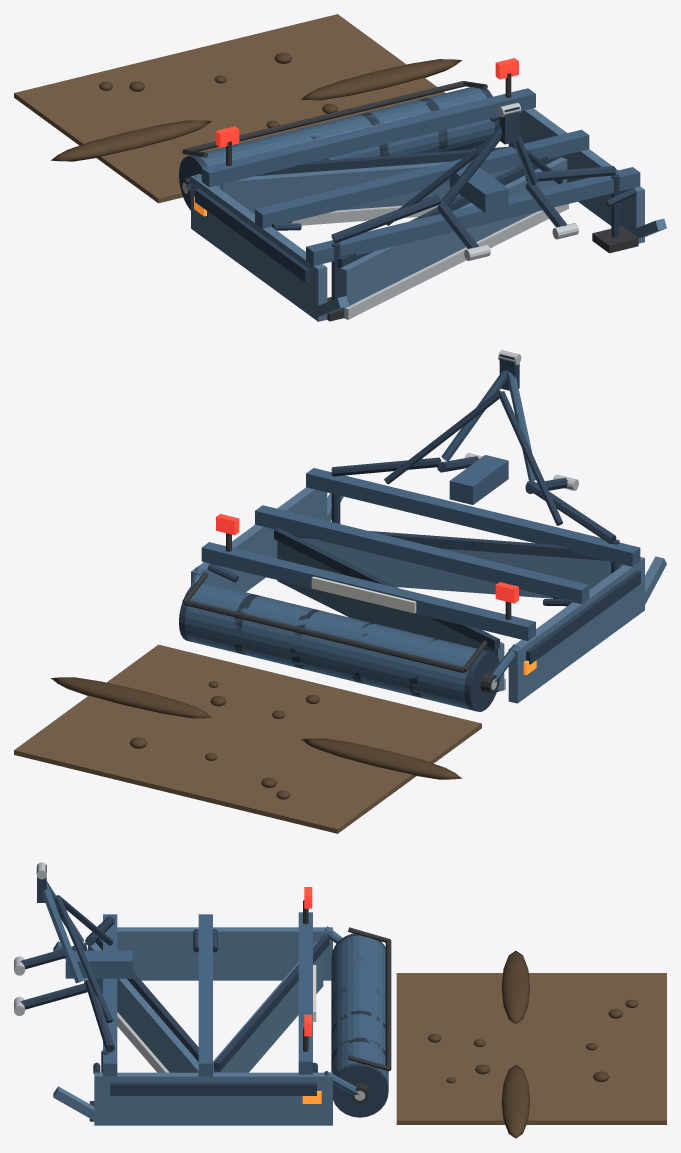
Rendered from land_plane.glb.
3 renders of one model, top to bottom at view 1: azimuth 30°, elevation 25°; view 2: azimuth 150°, elevation 25°; view 3: azimuth 270°, elevation 25°, orthographic. The views are drawn at different scales.
Visible parts, largest first — view 1: PlaneBody, PlaneProps, PlaneRoller; view 2: PlaneBody, PlaneProps, PlaneRoller; view 3: PlaneBody, PlaneProps, PlaneRoller.
Part boxes in pixels (x1,y1,x2,y2): PlaneBody: (180, 58, 666, 321); PlaneProps: (14, 14, 461, 203); PlaneRoller: (179, 87, 499, 210); PlaneBody: (182, 350, 666, 703); PlaneProps: (14, 644, 481, 833); PlaneRoller: (179, 582, 500, 711); PlaneBody: (14, 862, 391, 1125); PlaneProps: (396, 950, 666, 1138); PlaneRoller: (331, 933, 388, 1117).
Size of the model in its own units: 2.8 by 1.28 by 4.11.
